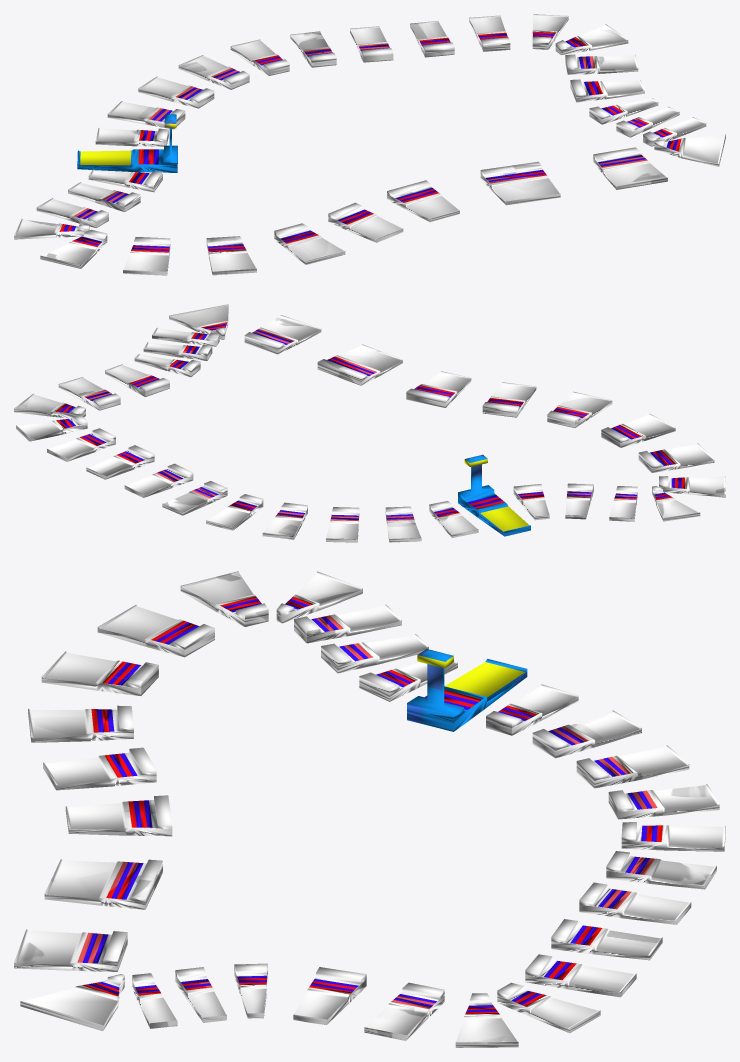
The model's file is Track.obj.
The picture shows the model from 3 angles, top to bottom: view 1: azimuth 30°, elevation 25°; view 2: azimuth 150°, elevation 25°; view 3: azimuth 270°, elevation 25°; orthographic projection. The views are drawn at different scales.
Visible parts, largest first — view 1: Loft001; view 2: Loft001; view 3: Loft001.
Part boxes in pixels (<box>): Loft001: <box>14,14,725,275</box>; Loft001: <box>14,304,725,542</box>; Loft001: <box>14,571,725,1047</box>.
Bounding box in the file's own units: 785 × 54.03 × 501.
